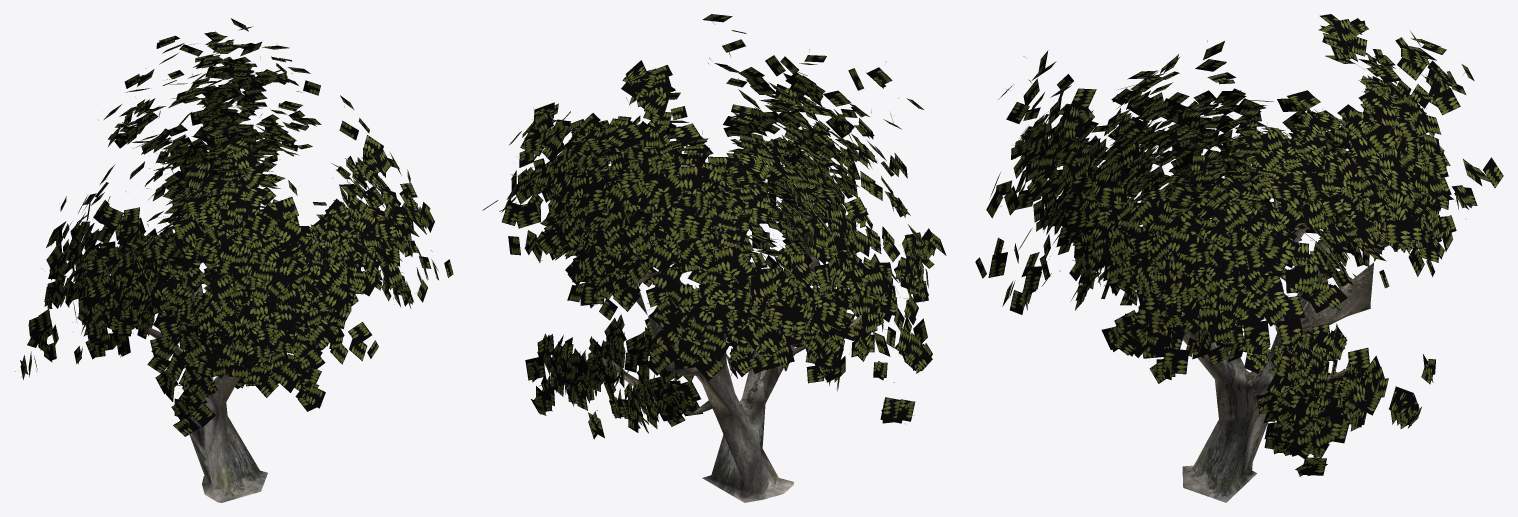
The model's file is island_tree_01.glb.
3 renders of one model, left to right at view 1: azimuth 30°, elevation 25°; view 2: azimuth 150°, elevation 25°; view 3: azimuth 270°, elevation 25°, orthographic. The views are drawn at different scales.
Parts seen in each view (by area): view 1: island_tree_01_LOD0; view 2: island_tree_01_LOD0; view 3: island_tree_01_LOD0.
Boxes of the visible parts, x1,y1,x2,y2 form: island_tree_01_LOD0: (15, 18, 453, 502); island_tree_01_LOD0: (482, 14, 946, 502); island_tree_01_LOD0: (975, 14, 1503, 502).
Bounding box in the file's own units: 4.75 × 4.92 × 4.82.
Materials: 3 (3 with a texture image).
